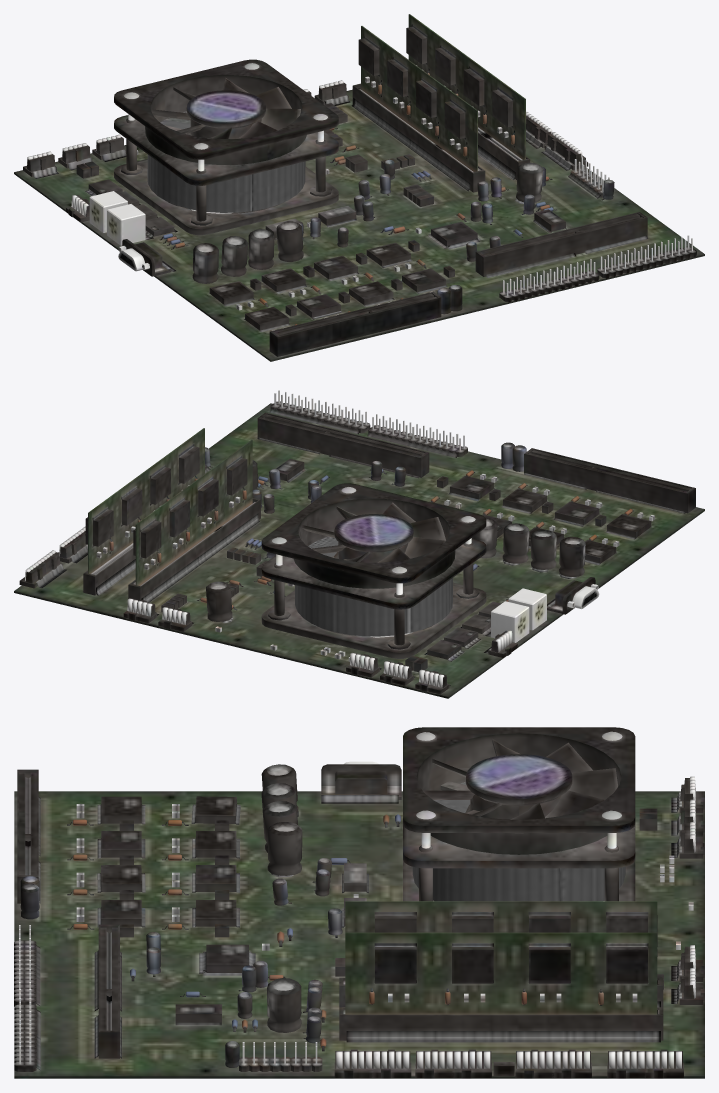
The model's file is circuit_board.glb.
3 renders of one model, top to bottom at view 1: azimuth 30°, elevation 25°; view 2: azimuth 150°, elevation 25°; view 3: azimuth 270°, elevation 25°, orthographic. The views are drawn at different scales.
Visible parts, largest first — view 1: circuit_board; view 2: circuit_board; view 3: circuit_board.
Part boxes in pixels (x1=…): circuit_board: x1=14, y1=14, x2=704, y2=361; circuit_board: x1=14, y1=390, x2=704, y2=698; circuit_board: x1=14, y1=727, x2=704, y2=1078.
Size of the model in its own units: 0.4035 by 0.0783 by 0.3974.
Materials: 2 (2 with a texture image).
